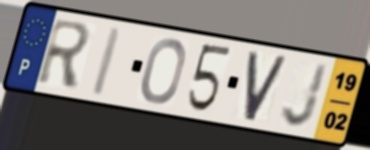5: (186, 41, 235, 114)
I: (88, 24, 126, 99)
J: (279, 60, 331, 130)
O: (139, 36, 188, 106)
R: (34, 16, 95, 91)
V: (241, 49, 290, 124)
